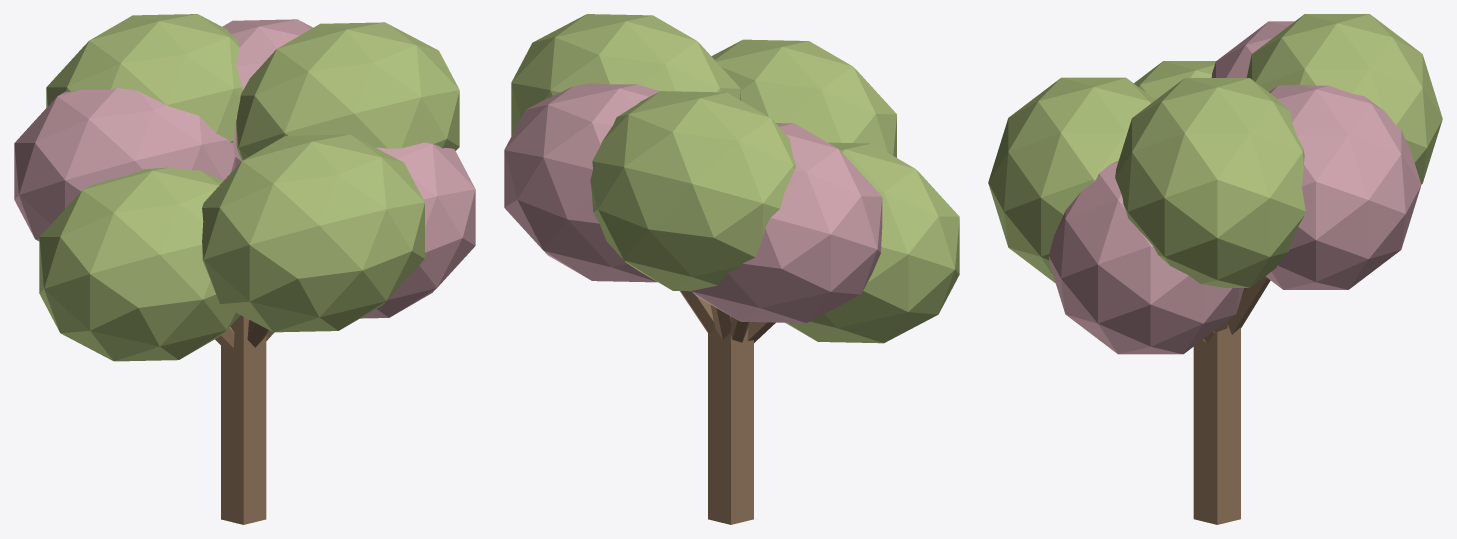
The model's file is tree_flower.glb.
The picture shows the model from 3 angles, left to right: view 1: azimuth 30°, elevation 25°; view 2: azimuth 150°, elevation 25°; view 3: azimuth 270°, elevation 25°; orthographic projection. The views are drawn at different scales.
Visible parts, largest first — view 1: part_6, part_10, part_2, part_4, part_14, part_0, part_12, part_8; view 2: part_14, part_4, part_8, part_10, part_2, part_6, part_0, part_7; view 3: part_2, part_8, part_12, part_6, part_14, part_0, part_4, part_10, part_7.
Boxes of the visible parts, <box> form: part_6: <box>202,134,424,332</box>; part_10: <box>39,167,240,361</box>; part_2: <box>236,22,459,160</box>; part_4: <box>14,88,235,241</box>; part_14: <box>46,14,242,142</box>; part_0: <box>221,315,266,524</box>; part_12: <box>360,142,475,318</box>; part_8: <box>222,19,312,167</box>; part_14: <box>590,91,795,291</box>; part_4: <box>691,123,882,323</box>; part_8: <box>504,83,659,282</box>; part_10: <box>785,142,959,343</box>; part_2: <box>511,14,740,135</box>; part_6: <box>711,39,896,157</box>; part_0: <box>708,322,753,524</box>; part_7: <box>680,291,714,334</box>; part_2: <box>1115,78,1305,287</box>; part_8: <box>1265,84,1421,289</box>; part_12: <box>1048,160,1244,354</box>; part_6: <box>988,77,1155,283</box>; part_14: <box>1246,14,1442,184</box>; part_0: <box>1193,324,1240,524</box>; part_4: <box>1211,21,1294,77</box>; part_10: <box>1134,61,1215,99</box>; part_7: <box>1227,276,1270,334</box>.
Bounding box in the file's own units: 3.68 × 3.83 × 3.3.
